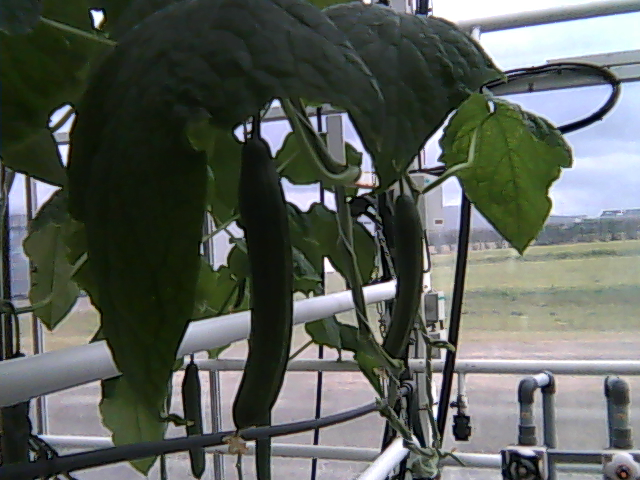concombre: (221, 128, 299, 461), (380, 189, 425, 360)
